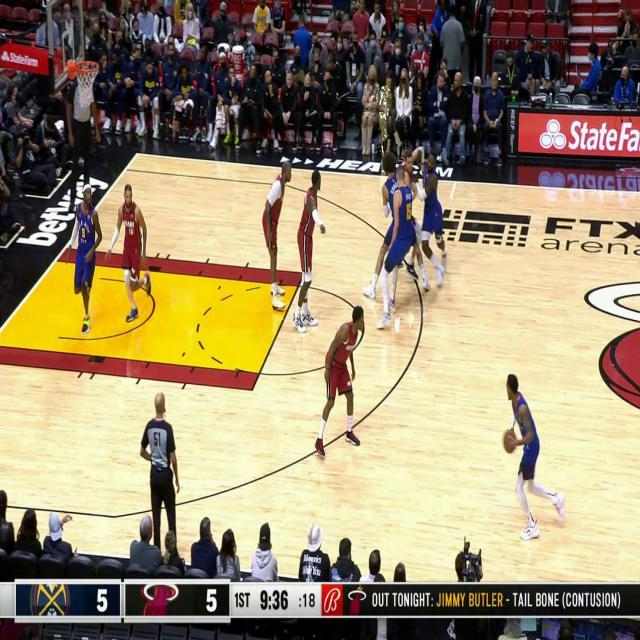rim: (502, 430, 518, 452)
